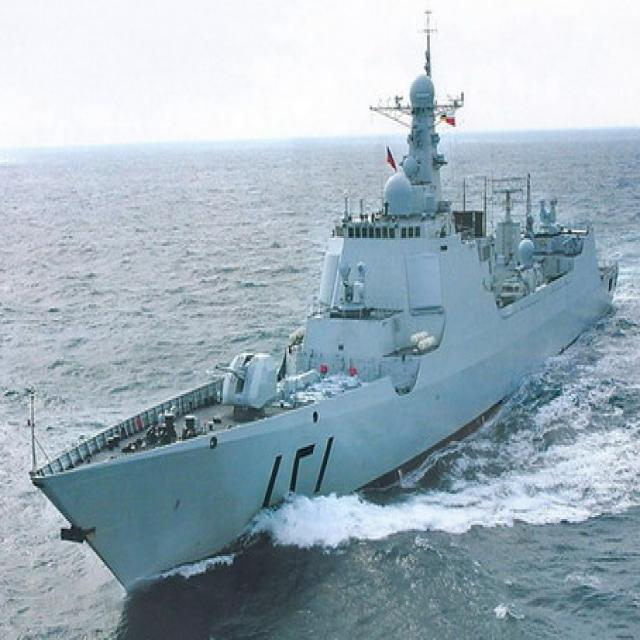navalvessels: (28, 23, 617, 614)
